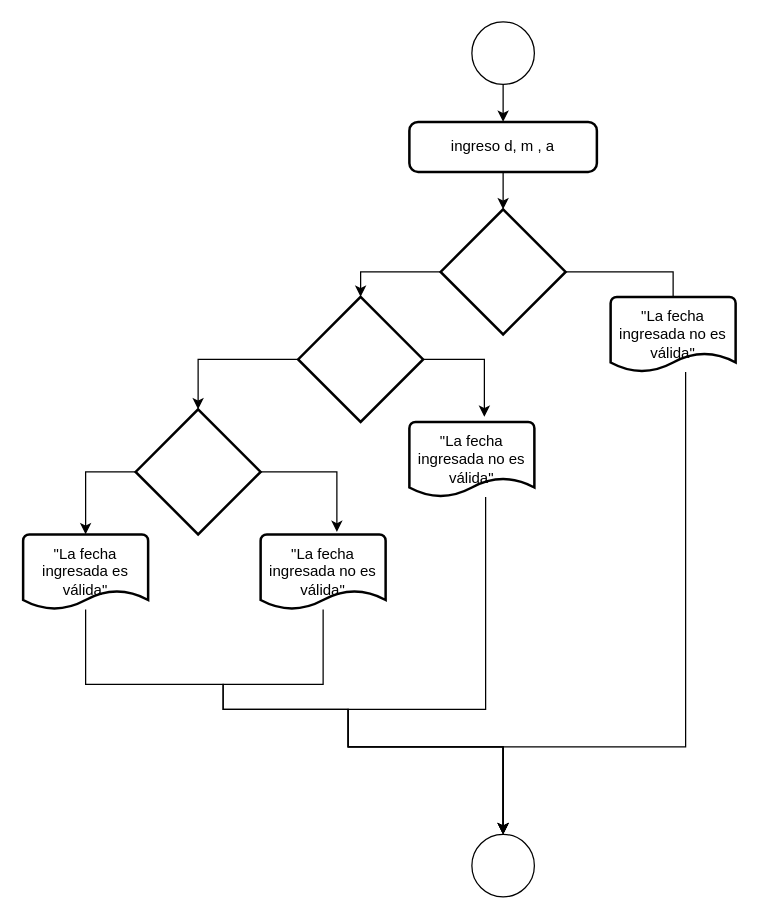
The diagram is 758 pixels wide and 919 high, and some of its shapes have lost their labels. Here are the shapes that lost their labels. From the top down, the box of each, then its label:
(439, 208, 566, 335): d >= 1 && d <= 31
(296, 295, 424, 422): m >= 1 && m <= 12
(134, 408, 261, 535): a =! 0
